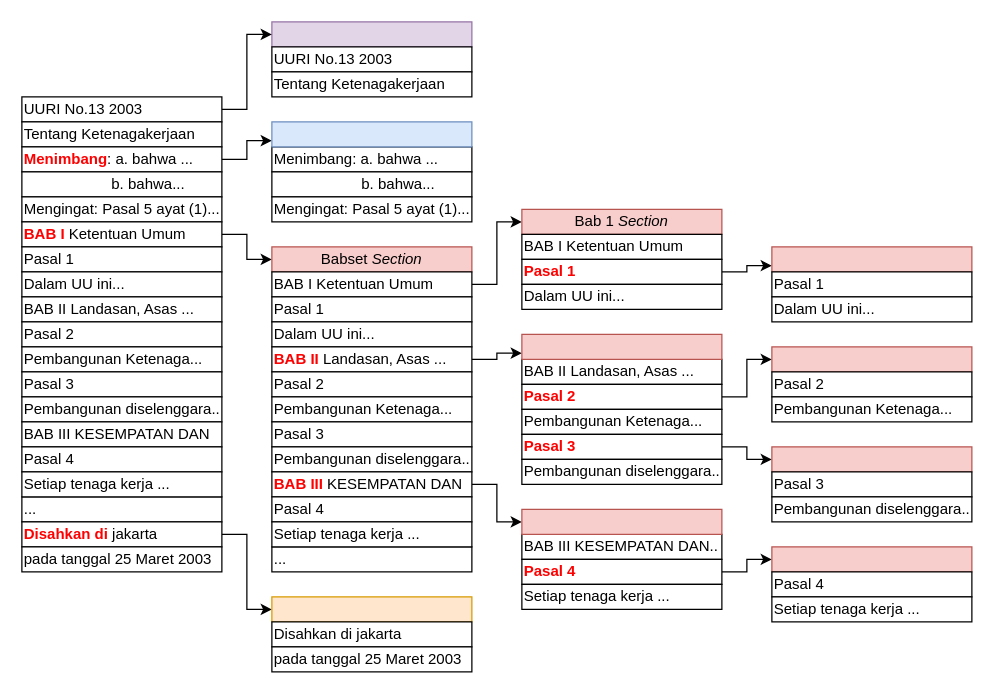
Some shapes in this 994 by 694 pixel diagram are drawn without their labels. The box of each missing label's shape, as (x1, y1, x2, y2) in pixels:
Bab 2 Section: (521, 333, 722, 359)
Bab 3 Section: (521, 508, 722, 534)
Disahkan Section: (271, 596, 472, 622)
Judul Section: (271, 21, 472, 47)
Metadata Section: (271, 121, 472, 147)
Pasal 1 Section: (771, 246, 972, 272)
Pasal 2 Section: (771, 346, 972, 372)
Pasal 3 Section: (771, 446, 972, 472)
Pasal 4 Section: (771, 546, 972, 572)
